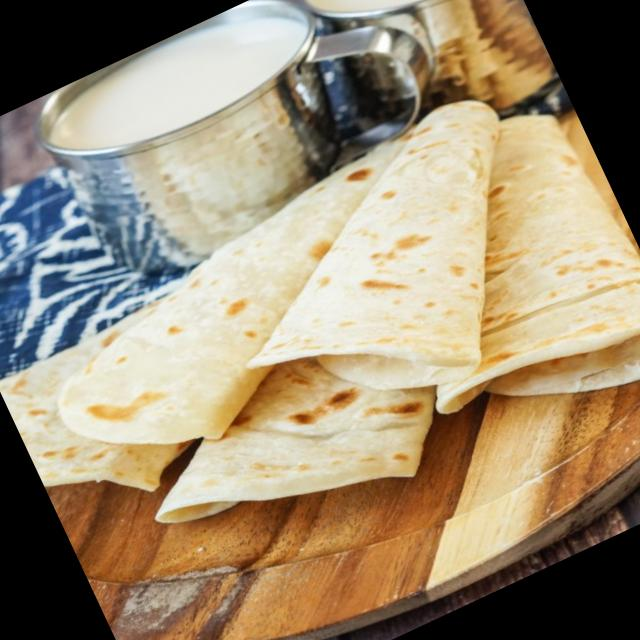roti: (1, 100, 640, 530)
